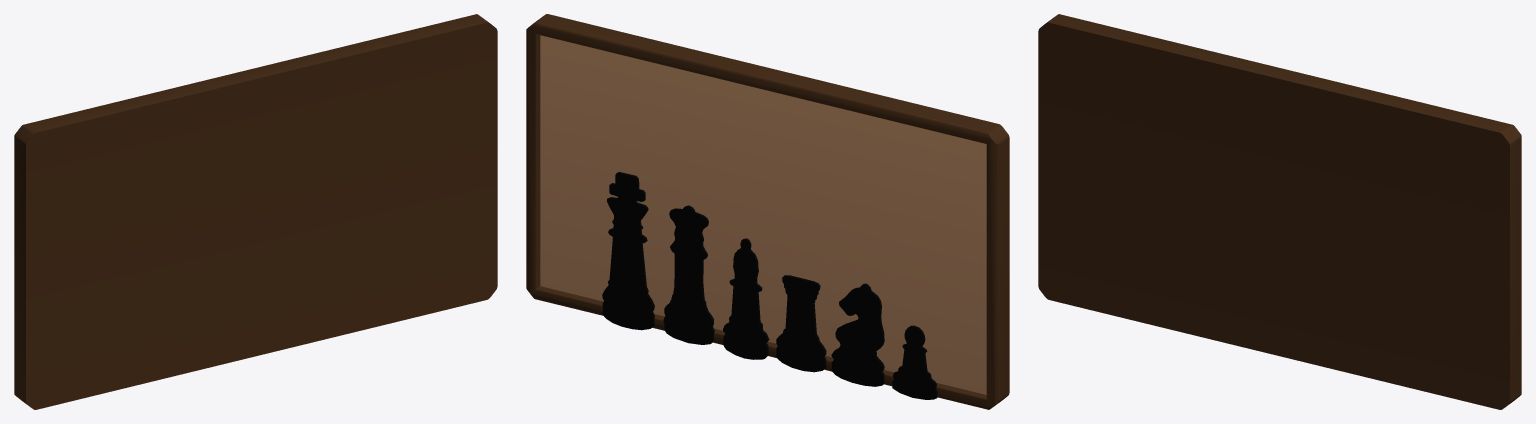
Rendered from Apartment_ChessThingies.fbx.
3 views of the same model, side by side, from view 1: azimuth 30°, elevation 25°; view 2: azimuth 150°, elevation 25°; view 3: azimuth 330°, elevation 25° (orthographic).
Visible parts, largest first — view 1: roomInfoSign; view 2: roomInfoSign, King, Queen, Knight, Bishop, Rook, Pawn; view 3: roomInfoSign.
Boxes of the visible parts, left/top/right/bottom form: roomInfoSign: left=14, top=14, right=497, bottom=409; roomInfoSign: left=526, top=14, right=1009, bottom=409; King: left=602, top=172, right=654, bottom=330; Queen: left=663, top=205, right=714, bottom=344; Knight: left=831, top=283, right=884, bottom=386; Bishop: left=723, top=238, right=769, bottom=359; Rook: left=776, top=275, right=826, bottom=372; Pawn: left=892, top=325, right=937, bottom=399; roomInfoSign: left=1038, top=14, right=1521, bottom=409.
Bounding box in the file's own units: 356 × 201 × 23.25.
2 materials, 1 textured.
